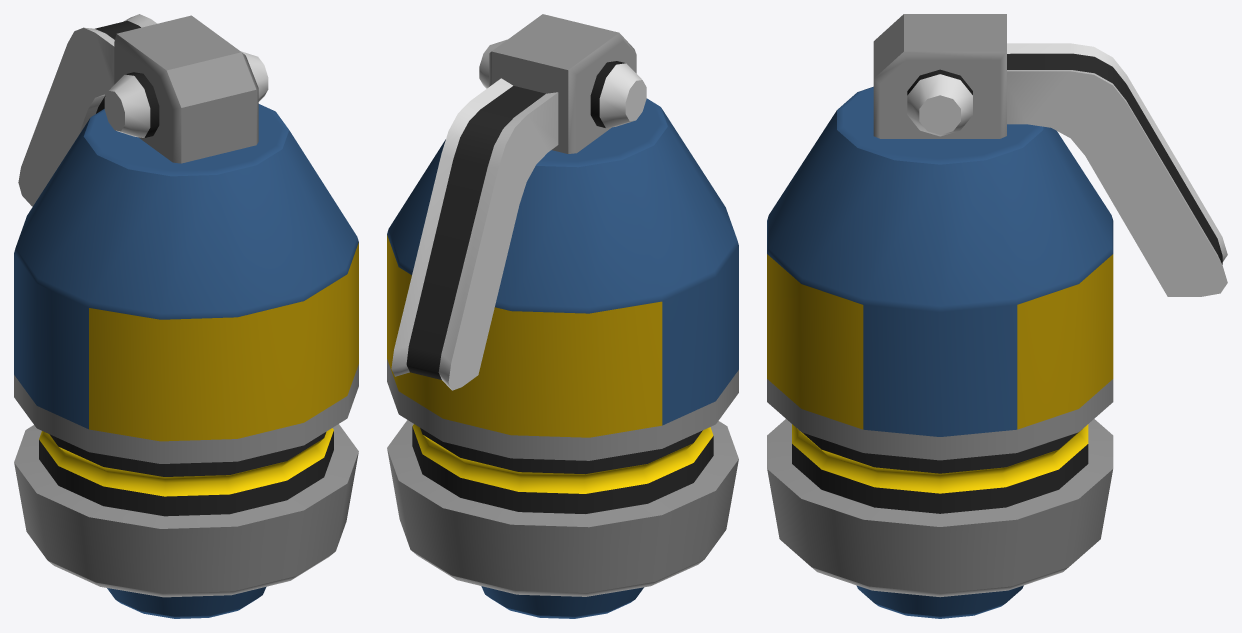
File: FragGrenade.FBX
The picture shows the model from 3 angles, left to right: view 1: azimuth 30°, elevation 25°; view 2: azimuth 150°, elevation 25°; view 3: azimuth 270°, elevation 25°; orthographic projection. The views are drawn at different scales.
Parts seen in each view (by area): view 1: FragGrenade, Switch; view 2: FragGrenade, Switch; view 3: FragGrenade, Switch.
Boxes of the visible parts, x1,y1,x2,y2 form: FragGrenade: [14, 15, 358, 618]; Switch: [18, 14, 157, 206]; FragGrenade: [387, 14, 738, 618]; Switch: [391, 78, 558, 390]; FragGrenade: [767, 14, 1113, 618]; Switch: [1007, 43, 1227, 296].
Size of the model in its own units: 44 by 75.63 by 57.1.
